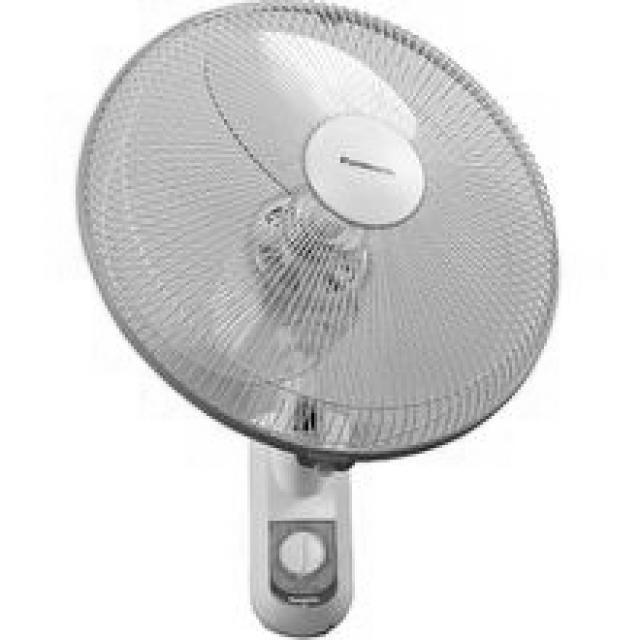fan: (69, 8, 570, 460)
